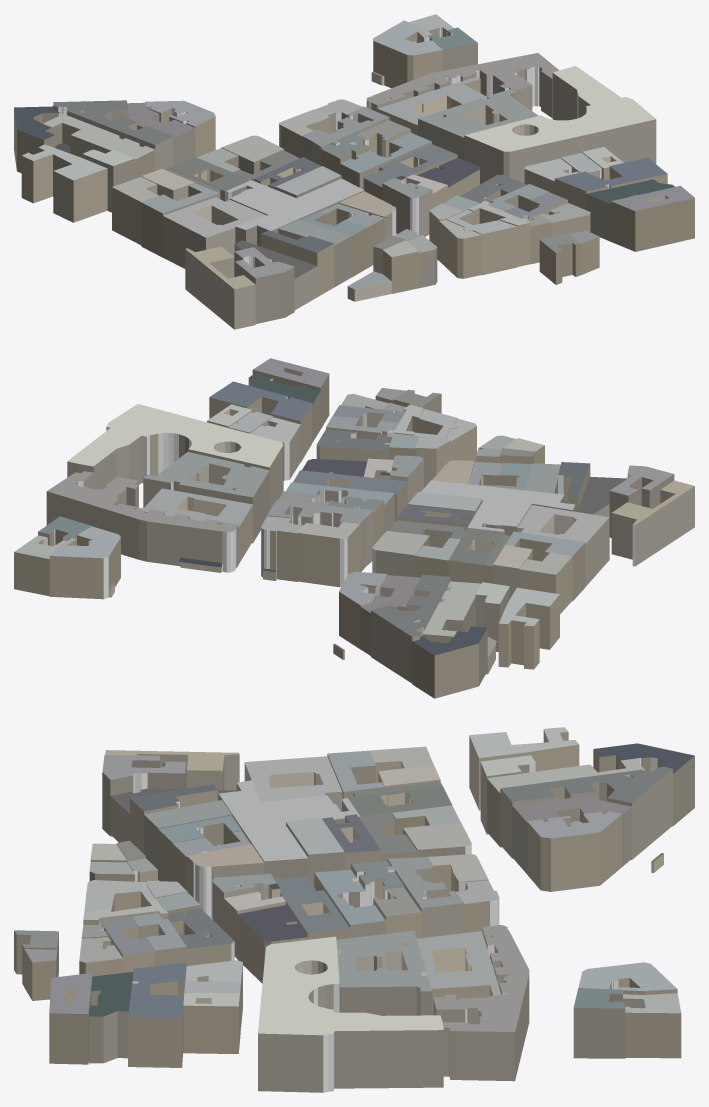
3 views of the same model, one above another, from view 1: azimuth 30°, elevation 25°; view 2: azimuth 150°, elevation 25°; view 3: azimuth 270°, elevation 25° (orthographic). The views are drawn at different scales.
Visible parts, largest first — view 1: tuile; view 2: tuile; view 3: tuile.
Boxes of the visible parts, x1,y1,x2,y2 form: tuile: (14, 14, 694, 329); tuile: (14, 358, 694, 698); tuile: (14, 727, 694, 1092).
Size of the model in its own units: 292 by 28.31 by 270.
